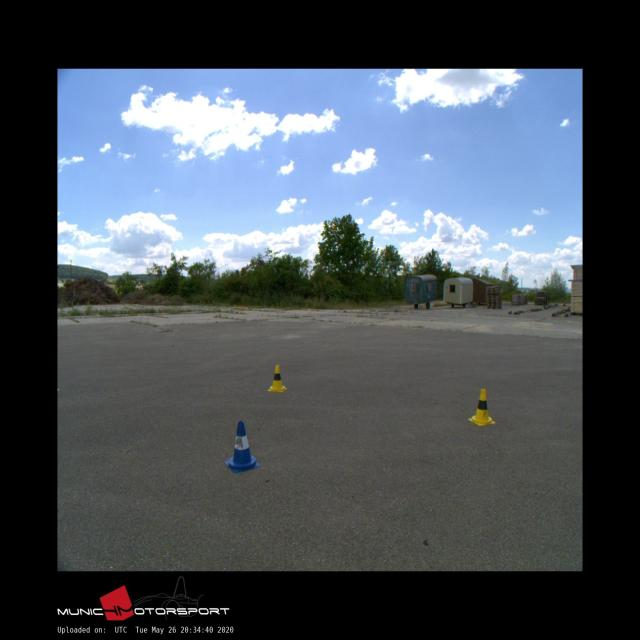blue_cone: (225, 421, 259, 472)
yellow_cone: (467, 388, 495, 426), (268, 365, 286, 392)
